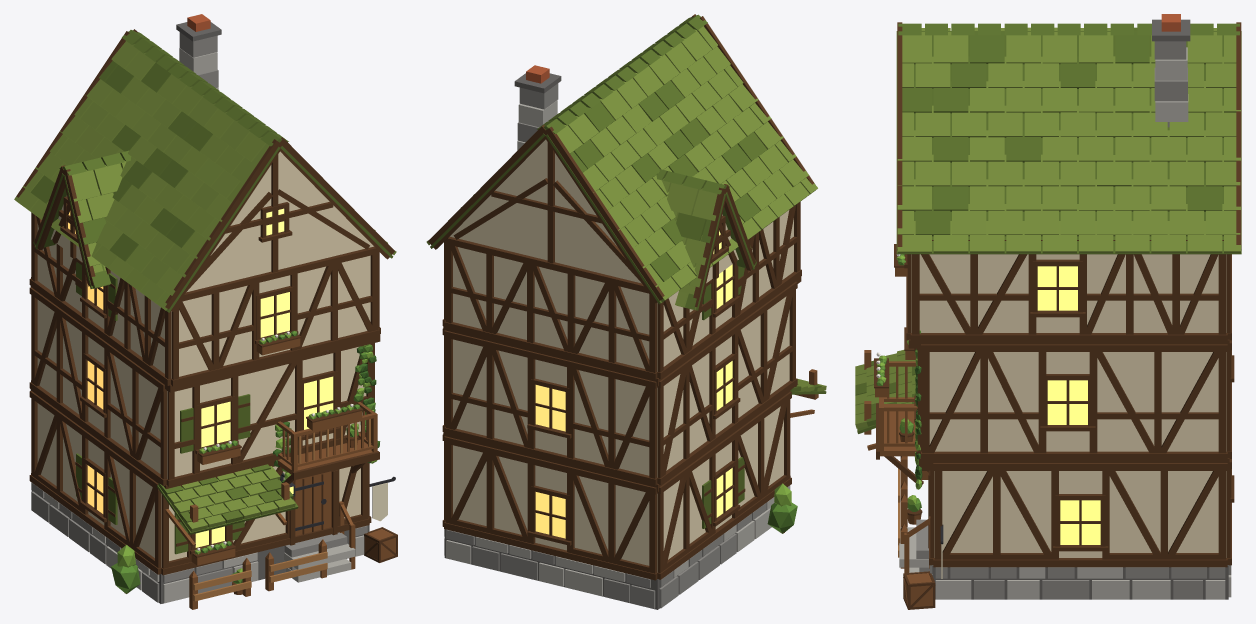
Rendered from Town_06_GreenPorch.fbx.
The picture shows the model from 3 angles, left to right: view 1: azimuth 30°, elevation 25°; view 2: azimuth 150°, elevation 25°; view 3: azimuth 270°, elevation 25°; orthographic projection. The views are drawn at different scales.
Parts seen in each view (by area): view 1: Town_06_GreenPorch_LOD0; view 2: Town_06_GreenPorch_LOD0; view 3: Town_06_GreenPorch_LOD0.
Part boxes in pixels (box(x1,y1,x2,y2)): Town_06_GreenPorch_LOD0: box(14, 14, 397, 609); Town_06_GreenPorch_LOD0: box(426, 14, 826, 609); Town_06_GreenPorch_LOD0: box(855, 14, 1241, 609).
Size of what is drawn, in the model's own units: 6.94 by 11.98 by 7.67.
